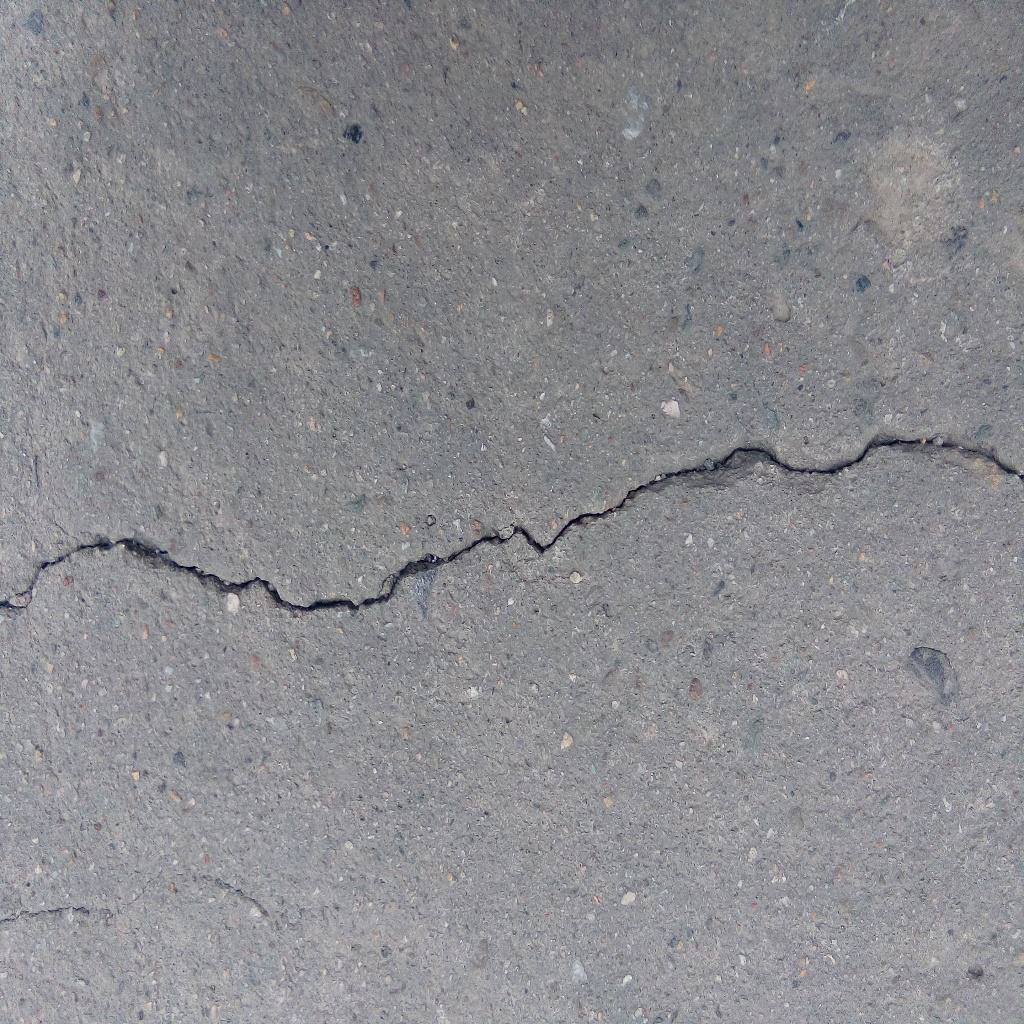Crack: (1, 434, 1024, 619), (1, 872, 269, 925)
